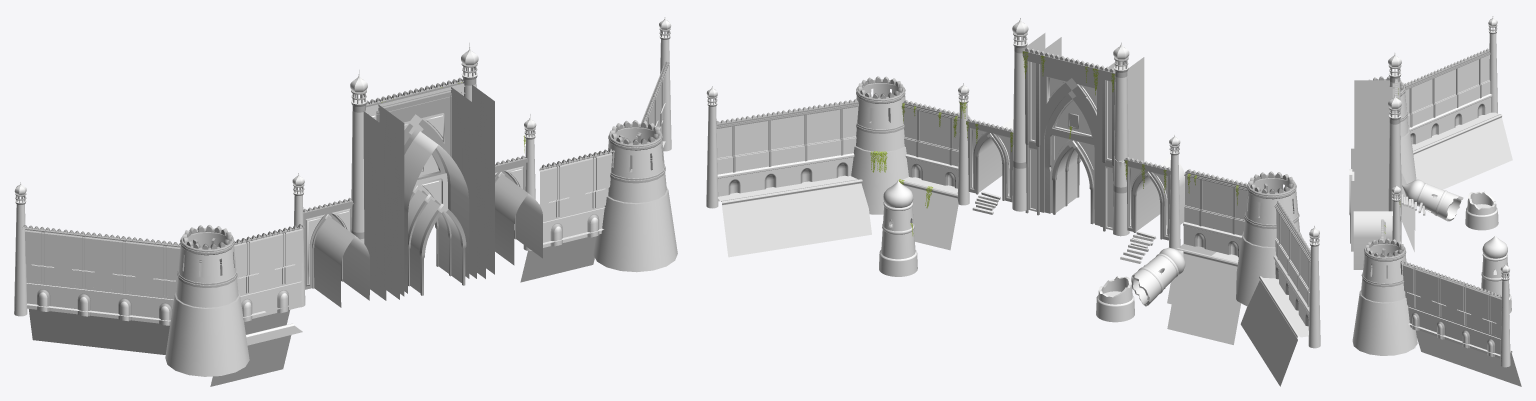
The model's file is GateOptimizedExport.fbx.
3 renders of one model, left to right at view 1: azimuth 30°, elevation 25°; view 2: azimuth 150°, elevation 25°; view 3: azimuth 270°, elevation 25°, orthographic. The views are drawn at different scales.
Parts seen in each view (by area): view 1: gate, tower_2__1_, tower_2, minigate__1_, minigate, wall_1__4__1, wall_1__5__1, wall_1__3__1, wall_1__3__2, wall_1, wall_1__1_, wall_1__6__1 (+21 smaller); view 2: gate, tower_2, tower_2__1_, minigate__1_, minigate, tower_4, wall_3__5_, wall_3__6_, wall_3__4_, wall_3__3_, wall_3, wall_3__2_ (+33 smaller); view 3: gate, tower_2, minigate, Cylinder_004, wall_3__5__1, wall_3__4__1, wall_3__3__1, tower_4, wall_1__5_, Cylinder_007, wall_1__4__1, wall_1__4_ (+24 smaller).
Part boxes in pixels (x1,y1,x2,y2): gate: (350,43,494,300); tower_2__1_: (165,225,249,376); tower_2: (593,120,677,272); minigate__1_: (303,197,369,307); minigate: (495,155,542,265); wall_1__4__1: (62,229,104,289); wall_1__5__1: (103,234,144,294); wall_1__3__1: (21,225,63,285); wall_1__3__2: (265,224,304,288); wall_1: (539,157,578,220); wall_1__1_: (575,148,614,212); wall_1__6__1: (143,238,184,297); gate: (1012,18,1144,236); tower_2: (851,76,908,214); tower_2__1_: (1236,171,1301,306); minigate__1_: (1124,156,1184,240); minigate: (966,117,1013,202); tower_4: (879,181,917,276); wall_3__5_: (753,185,799,251); wall_3__6_: (718,191,764,257); wall_3__4_: (789,180,835,245); wall_3__3_: (825,175,871,240); wall_3: (917,183,958,250); wall_3__2_: (1200,252,1238,319); gate: (1349,53,1401,251); tower_2: (1352,238,1417,355); minigate: (1353,195,1397,269); Cylinder_004: (1402,179,1463,221); wall_3__5__1: (1424,131,1466,188); wall_3__4__1: (1447,121,1489,179); wall_3__3__1: (1470,112,1512,169); tower_4: (1481,235,1511,313); wall_1__5_: (1450,278,1478,329); Cylinder_007: (1465,191,1498,230); wall_1__4__1: (1443,58,1469,112); wall_1__4_: (1425,269,1452,320).
Bounding box in the file's own units: 36429 × 15396 × 10582.
